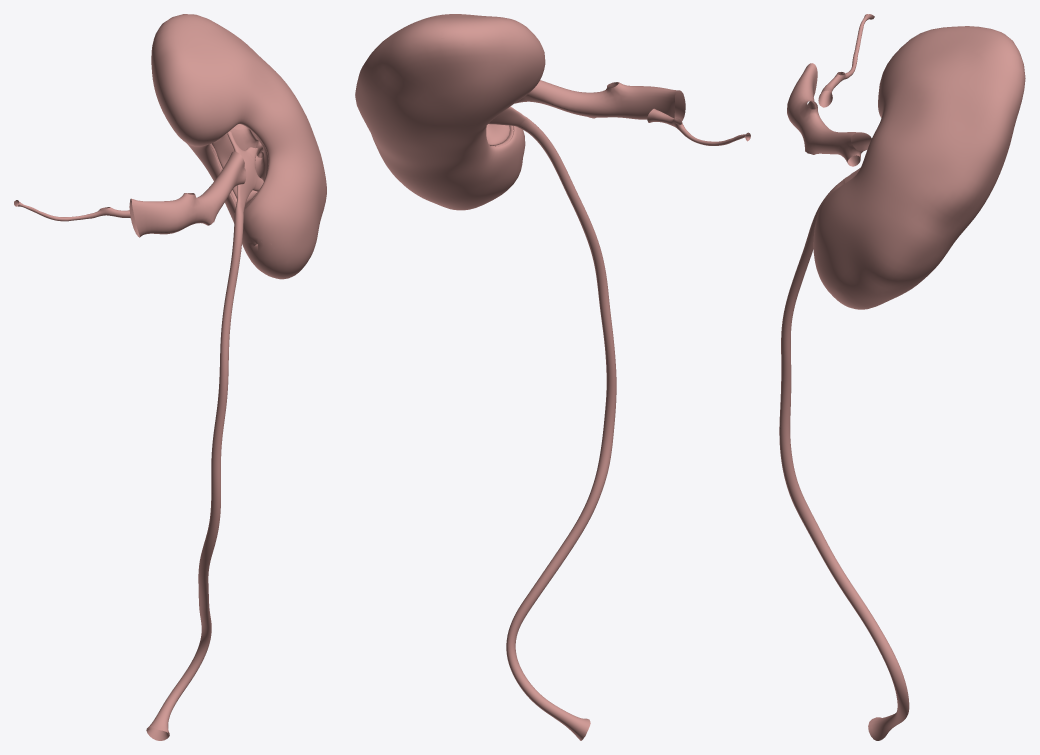
File: kidney.glb
3 views of the same model, side by side, from view 1: azimuth 30°, elevation 25°; view 2: azimuth 150°, elevation 25°; view 3: azimuth 270°, elevation 25° (orthographic). The views are drawn at different scales.
Parts seen in each view (by area): view 1: VH_M_kidney_capsule_L, VH_M_ureter_L, VH_M_renal_vein_L, VH_M_hilum_of_kidney_L, VH_M_left_renal_artery, VH_M_renal_pelvis_L; view 2: VH_M_kidney_capsule_L, VH_M_ureter_L, VH_M_renal_vein_L, VH_M_left_renal_artery; view 3: VH_M_kidney_capsule_L, VH_M_ureter_L, VH_M_renal_vein_L, VH_M_left_renal_artery.
Boxes of the visible parts, box(x1,y1,x2,y2) form: VH_M_kidney_capsule_L: box(151, 14, 326, 279); VH_M_ureter_L: box(146, 201, 244, 740); VH_M_renal_vein_L: box(129, 151, 246, 237); VH_M_hilum_of_kidney_L: box(212, 124, 268, 208); VH_M_left_renal_artery: box(14, 200, 130, 221); VH_M_renal_pelvis_L: box(235, 149, 256, 206); VH_M_kidney_capsule_L: box(355, 14, 545, 210); VH_M_ureter_L: box(506, 117, 616, 740); VH_M_renal_vein_L: box(515, 80, 685, 120); VH_M_left_renal_artery: box(647, 108, 750, 145); VH_M_kidney_capsule_L: box(813, 26, 1025, 309); VH_M_ureter_L: box(779, 178, 909, 740); VH_M_renal_vein_L: box(787, 63, 871, 166); VH_M_left_renal_artery: box(818, 14, 874, 107).
Size of the model in its own units: 0.1605 by 0.3191 by 0.0956.
